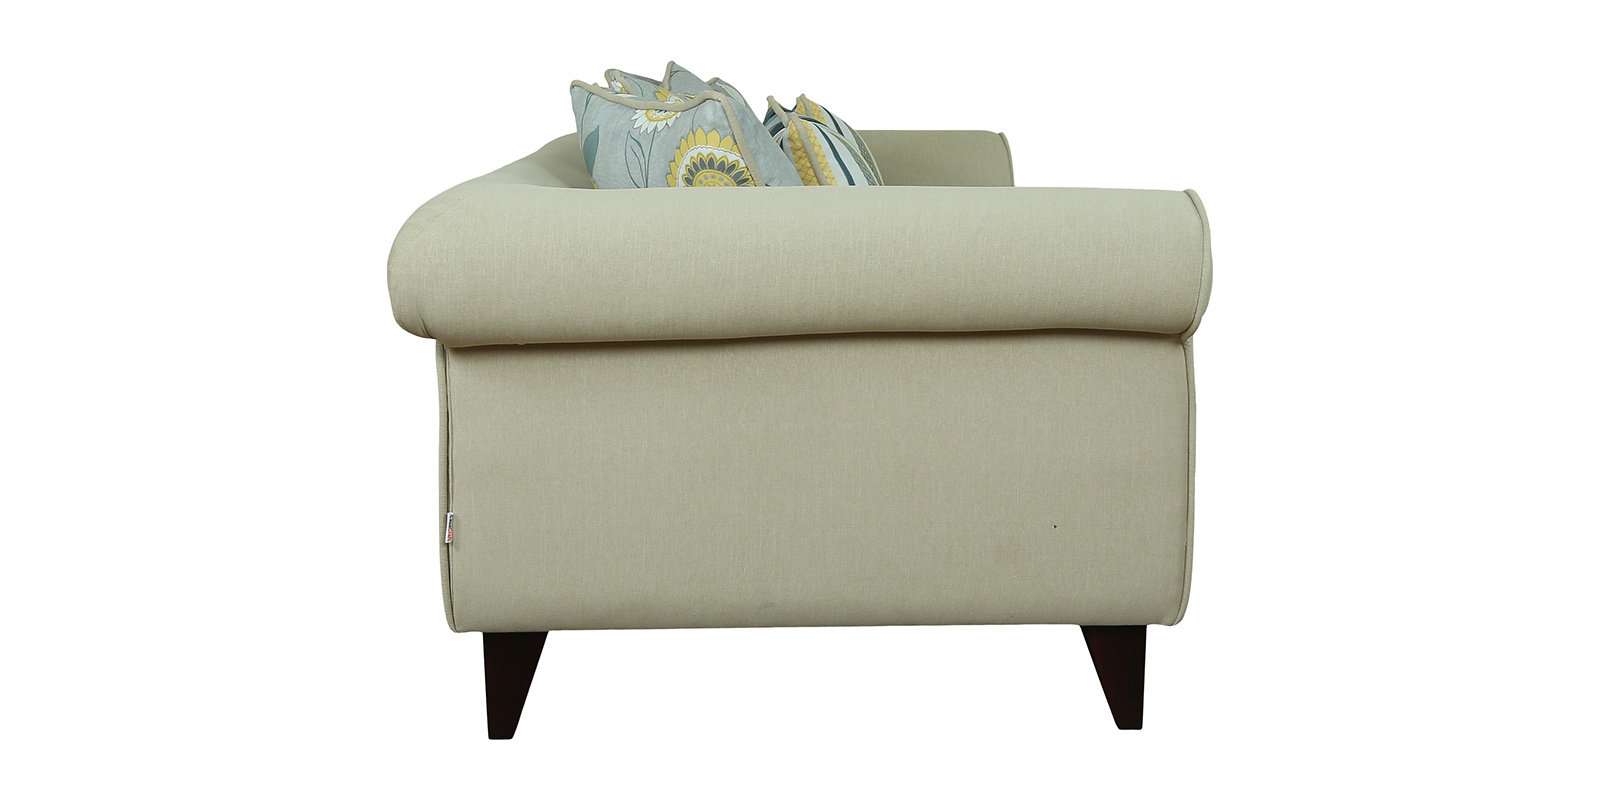Cielo Three Seater Sofa in Beige Colour by CasaCraft: (378, 36, 1278, 724)
